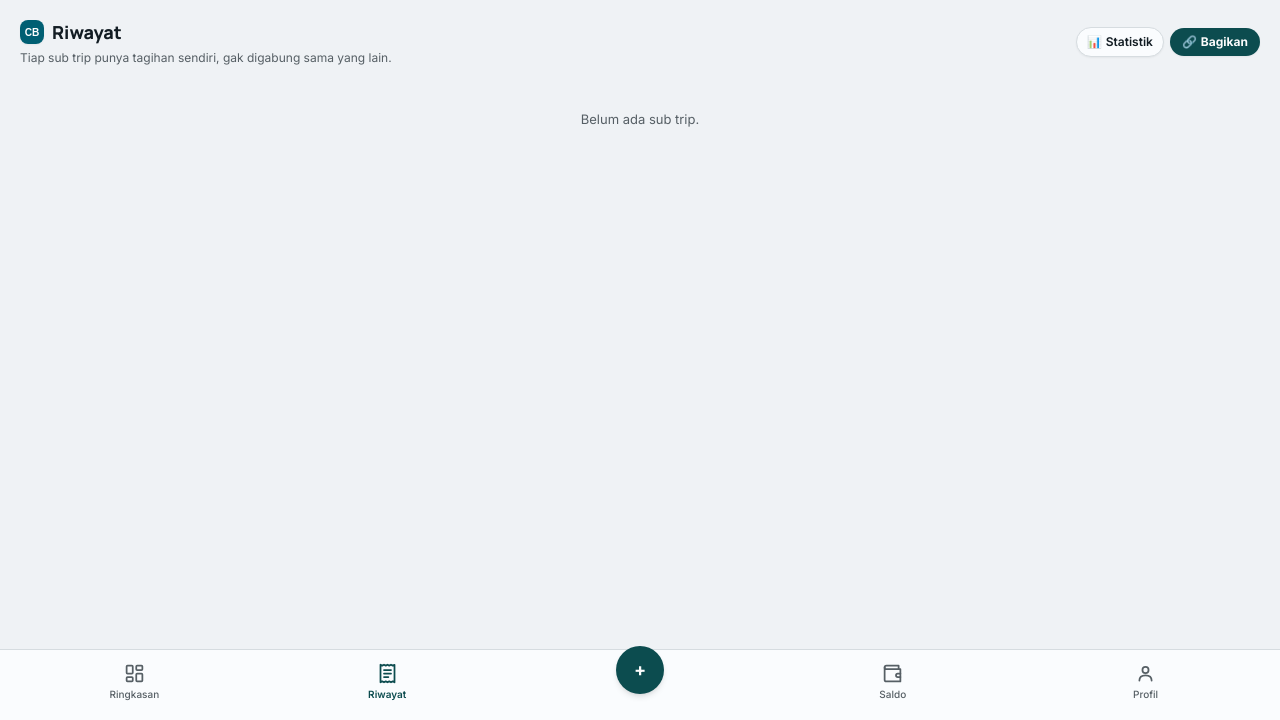
Test: RiwayatScreen › opens the add sheet from the FAB
Click the button named "Tambah sub trip" at (640, 670), box [616, 646, 664, 694]
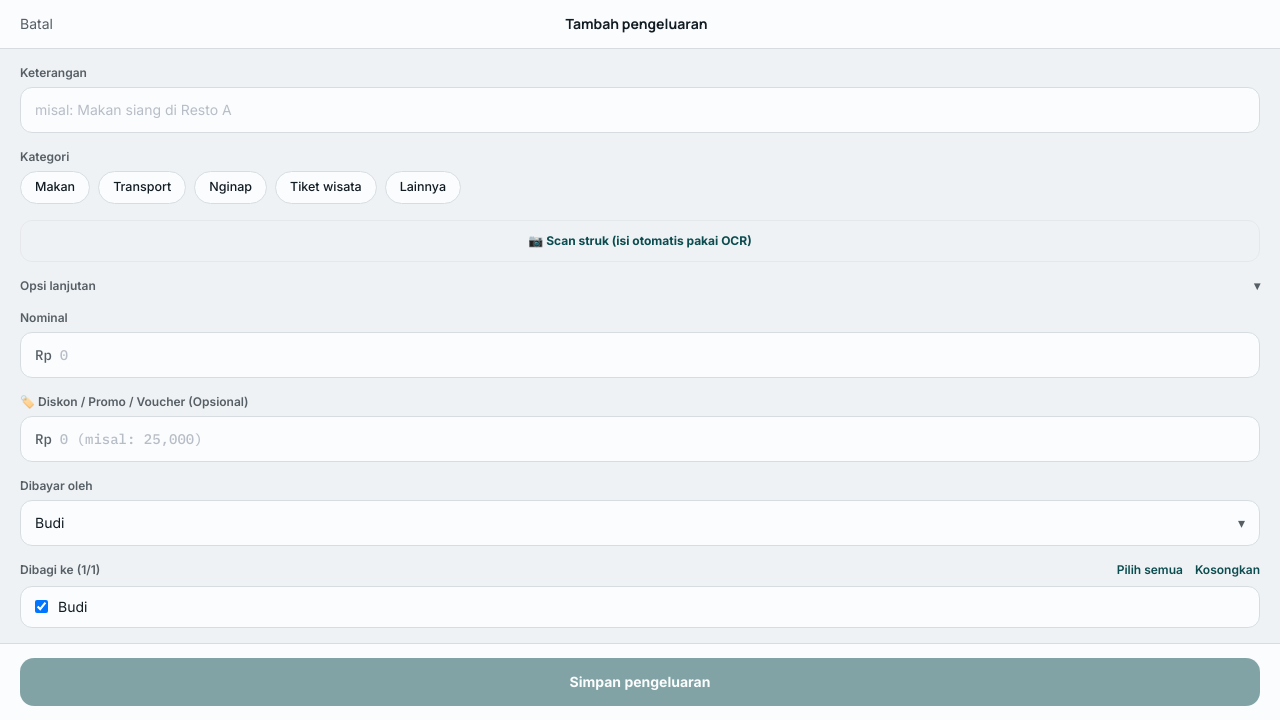
expect the text "Tambah pengeluaran" is shown: met, box [565, 14, 707, 34]
